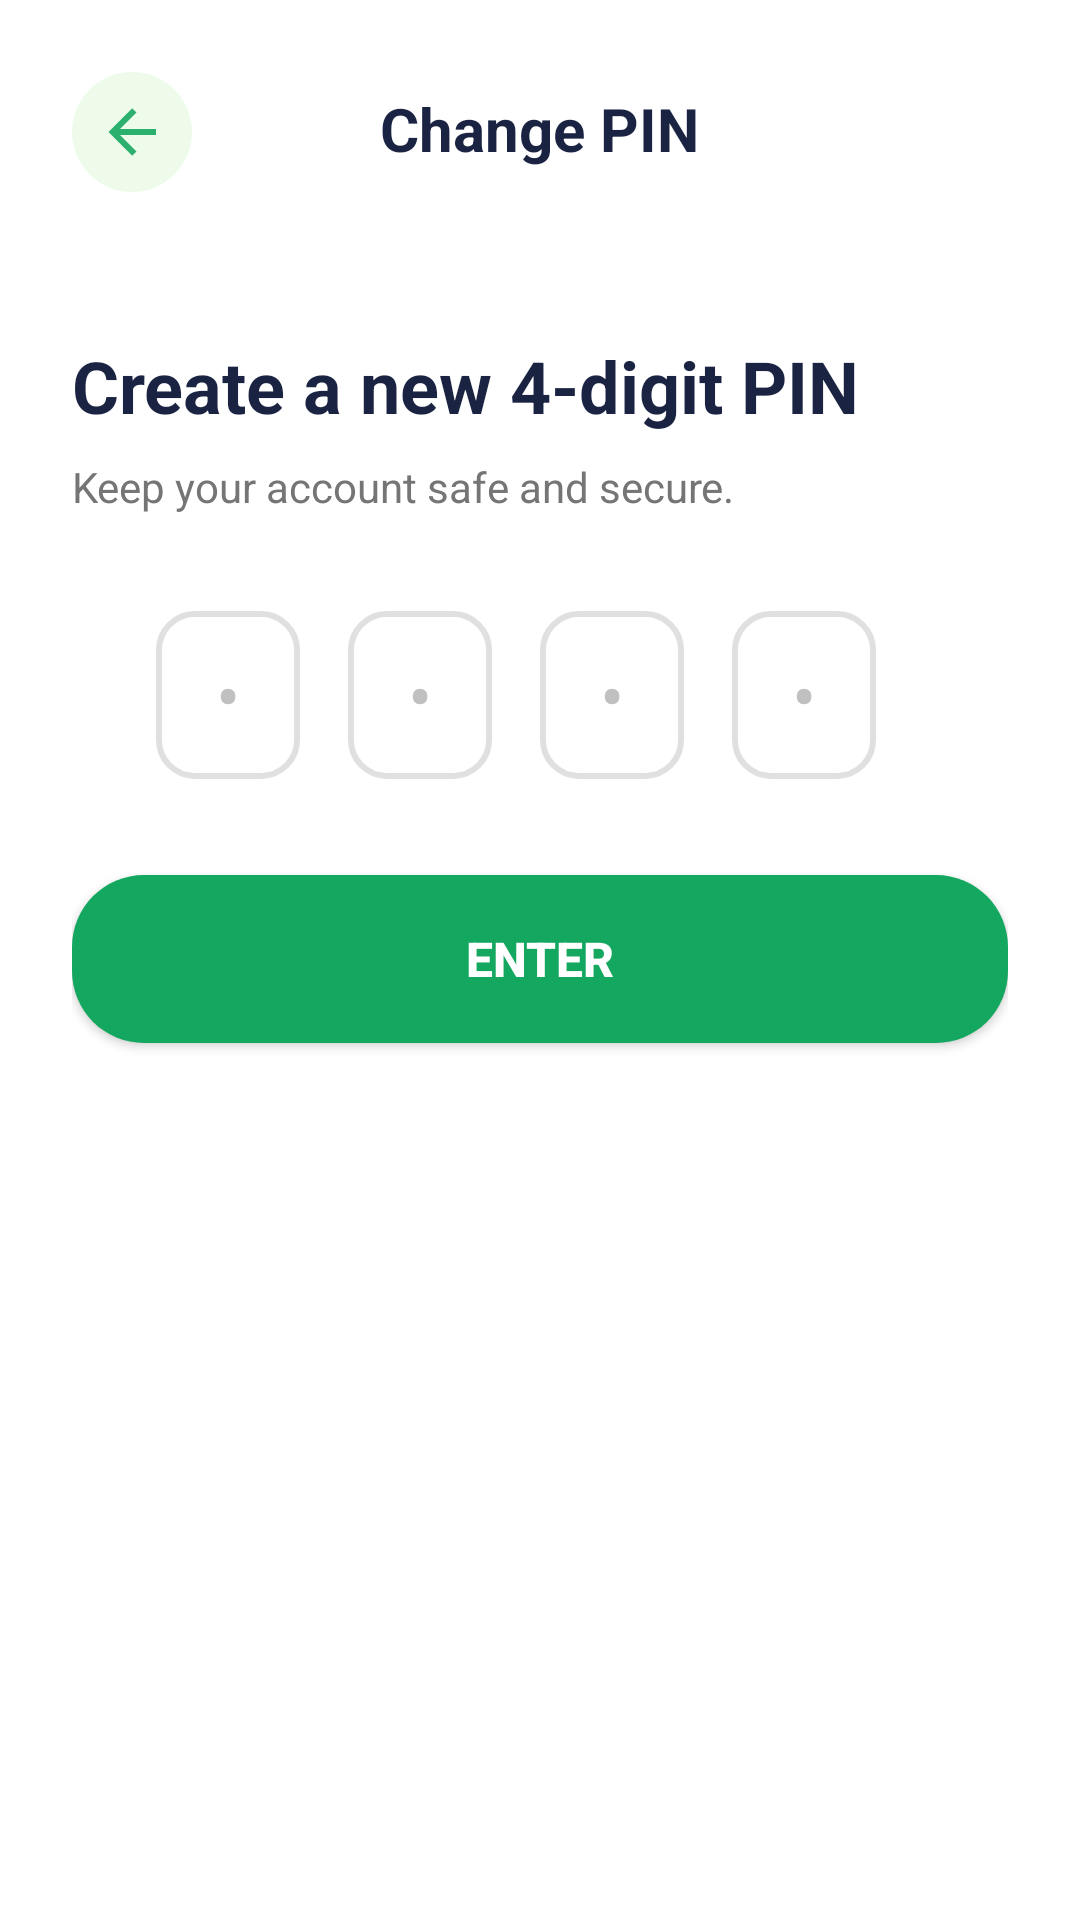

Point at icon controls on the screen. Image size 1080w x 1920h, points as (x=x, y=y).
Back: (x=132, y=132)
